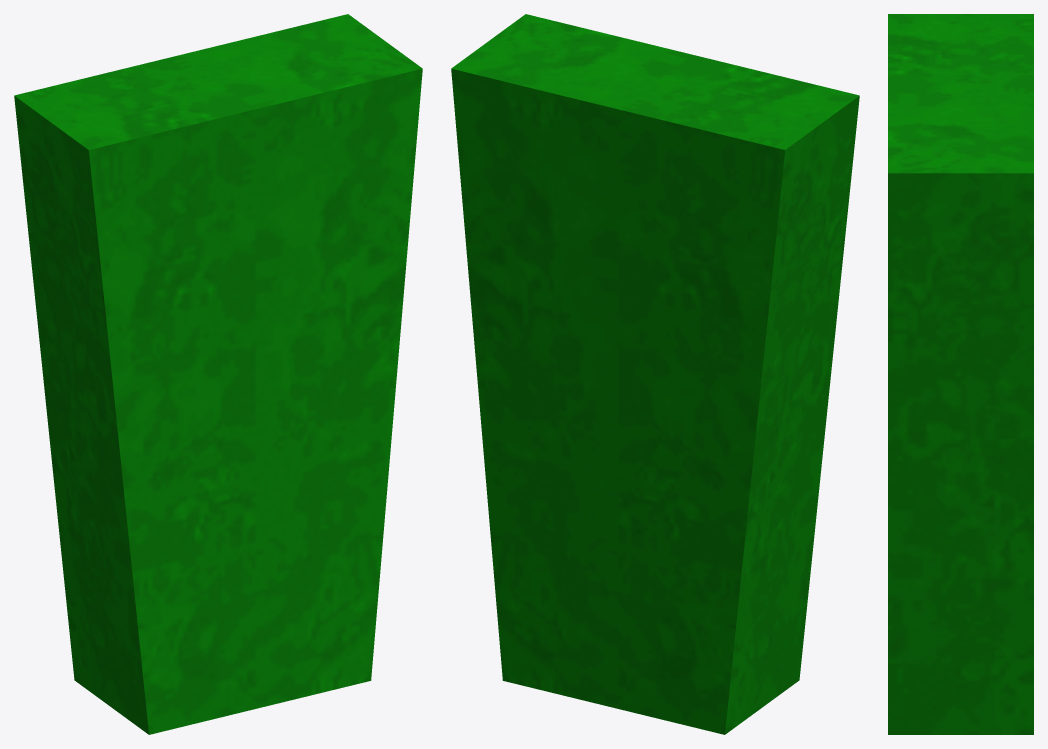
The model's file is MenuNew.glb.
The picture shows the model from 3 angles, left to right: view 1: azimuth 30°, elevation 25°; view 2: azimuth 150°, elevation 25°; view 3: azimuth 270°, elevation 25°; orthographic projection. The views are drawn at different scales.
Parts seen in each view (by area): view 1: MenuNew; view 2: MenuNew; view 3: MenuNew.
Boxes of the visible parts, left/top/right/bottom form: MenuNew: left=14, top=14, right=422, bottom=734; MenuNew: left=451, top=14, right=859, bottom=734; MenuNew: left=888, top=14, right=1033, bottom=734.
Size of the model in its own units: 77.55 by 133 by 30.
1 material, 1 textured.
